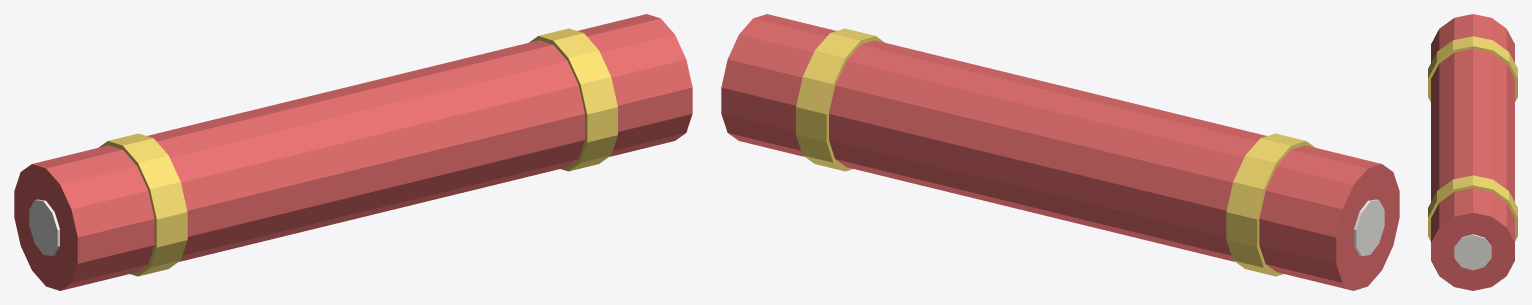
The model's file is travelling-circus-and-big-top-rolled-carpet-9c8c7a6d__36262.glb.
3 renders of one model, left to right at view 1: azimuth 30°, elevation 25°; view 2: azimuth 150°, elevation 25°; view 3: azimuth 270°, elevation 25°, orthographic. The views are drawn at different scales.
Parts seen in each view (by area): view 1: rolled-carpet-stripe, rolled-carpet-gold, rolled-carpet-canvas; view 2: rolled-carpet-stripe, rolled-carpet-gold, rolled-carpet-canvas; view 3: rolled-carpet-stripe, rolled-carpet-gold, rolled-carpet-canvas.
Part boxes in pixels (x1,y1,x2,y2): rolled-carpet-stripe: (14,14,692,290); rolled-carpet-gold: (99,28,617,276); rolled-carpet-canvas: (29,199,59,255); rolled-carpet-stripe: (721,14,1399,290); rolled-carpet-gold: (796,28,1314,276); rolled-carpet-canvas: (1354,199,1384,255); rolled-carpet-stripe: (1431,14,1514,290); rolled-carpet-gold: (1428,36,1517,241); rolled-carpet-canvas: (1454,234,1491,270).
Size of the model in its own units: 2.42 by 0.4701 by 0.4582.
